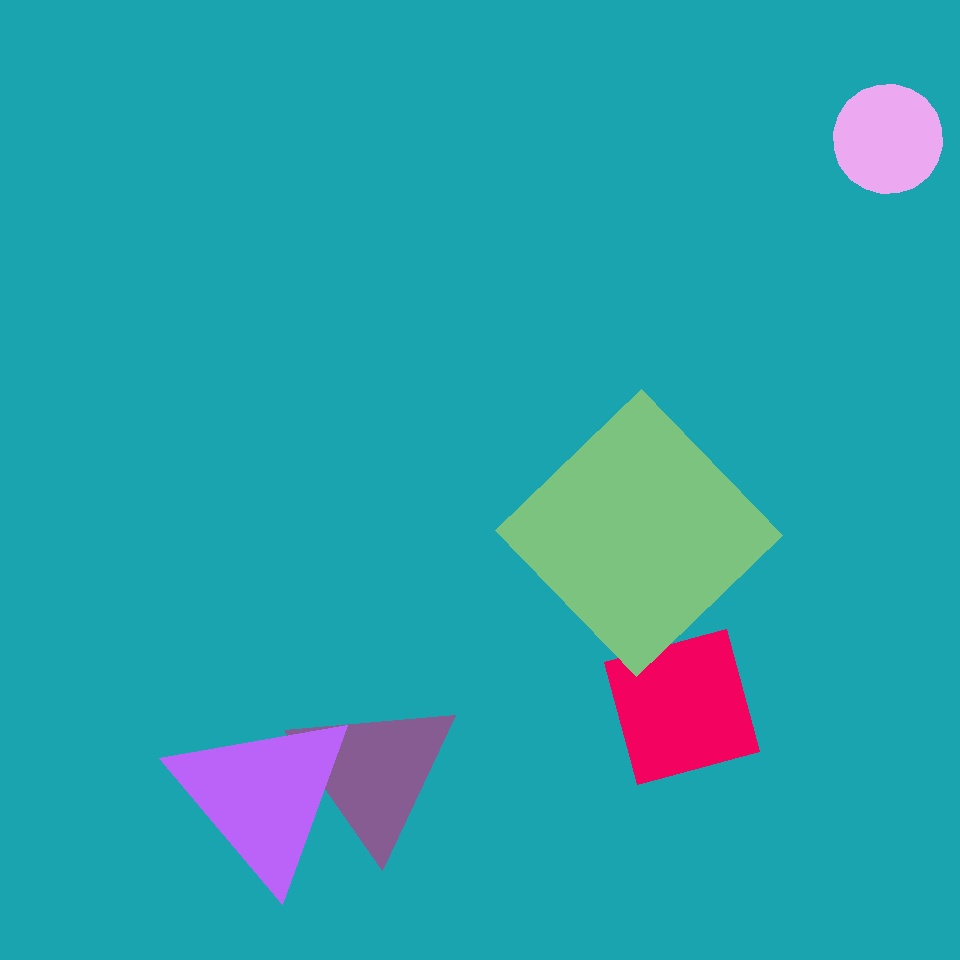circle: (169, 706, 357, 886), (160, 553, 343, 714), (288, 695, 460, 850), (758, 304, 900, 433)
square: (496, 390, 783, 676), (605, 630, 760, 784)
triangle: (834, 85, 942, 194)
